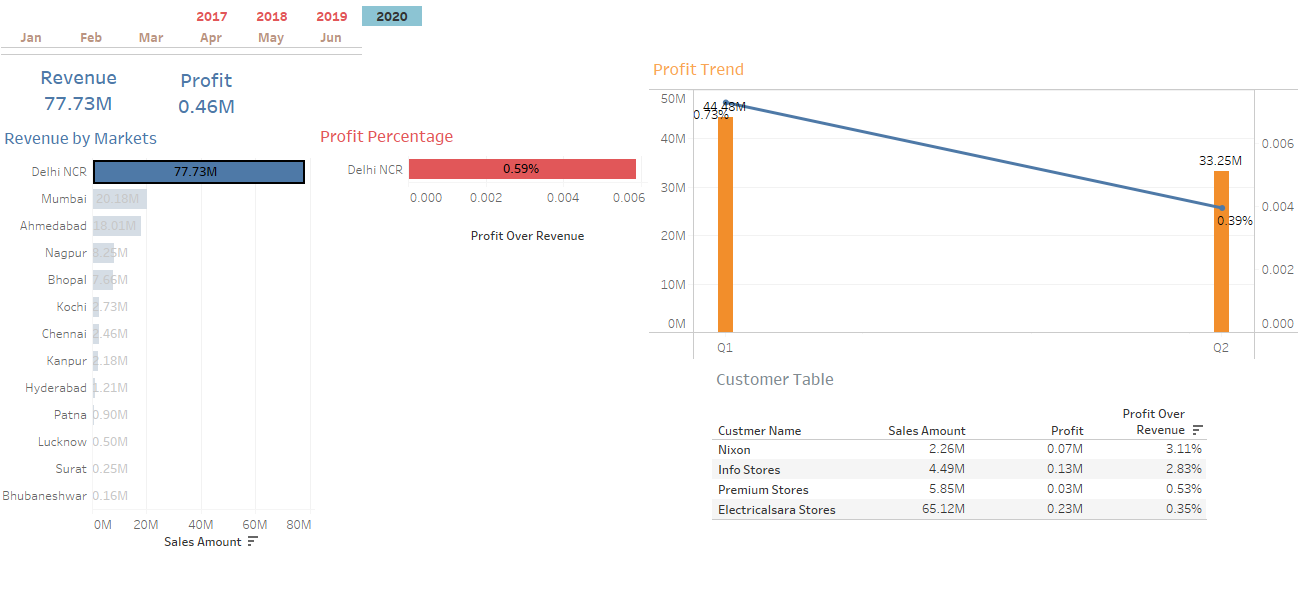

What the dashboard file says about the page in this screenshot:
{"tool":"tableau","page":{"name":"Profit Analysis","canvas":[1300,600],"ordinal":0},"visuals":[{"type":"worksheet","title":"Year Tab","mark":"Automatic","cols":["cy_date"],"box":[182,6,314,20]},{"type":"worksheet","title":"Month Tab","mark":"Automatic","cols":["cy_date"],"box":[1,27,725,31]},{"type":"worksheet","title":"Profit Trend","mark":"Automatic","rows":["sales_amount","Calculation_256142246869929984"],"cols":["cy_date"],"box":[649,52,650,308]},{"type":"worksheet","title":"Revenue","mark":"Automatic","box":[29,64,104,58]},{"type":"worksheet","title":"Profit","mark":"Automatic","box":[167,67,100,52]},{"type":"worksheet","title":"Profit Percentage","mark":"Automatic","rows":["markets_name"],"cols":["Calculation_256142246869929984"],"box":[316,119,331,475]},{"type":"worksheet","title":"Revenue by Markets","mark":"Automatic","rows":["markets_name"],"cols":["sales_amount"],"box":[0,121,314,466]},{"type":"worksheet","title":"Customer Table","mark":"Automatic","rows":["custmer_name"],"box":[712,362,532,239]}]}

Visuals, with their boxes in screenshot pixels (x1, y1, x2, y2), scaled from the page's 1300x600 canvas onto the 1300x600 screenshot:
"Year Tab" worksheet: detection(182, 6, 496, 26)
"Month Tab" worksheet: detection(1, 27, 726, 58)
"Profit Trend" worksheet: detection(649, 52, 1299, 360)
"Revenue" worksheet: detection(29, 64, 133, 122)
"Profit" worksheet: detection(167, 67, 267, 119)
"Profit Percentage" worksheet: detection(316, 119, 647, 594)
"Revenue by Markets" worksheet: detection(0, 121, 314, 587)
"Customer Table" worksheet: detection(712, 362, 1244, 599)
